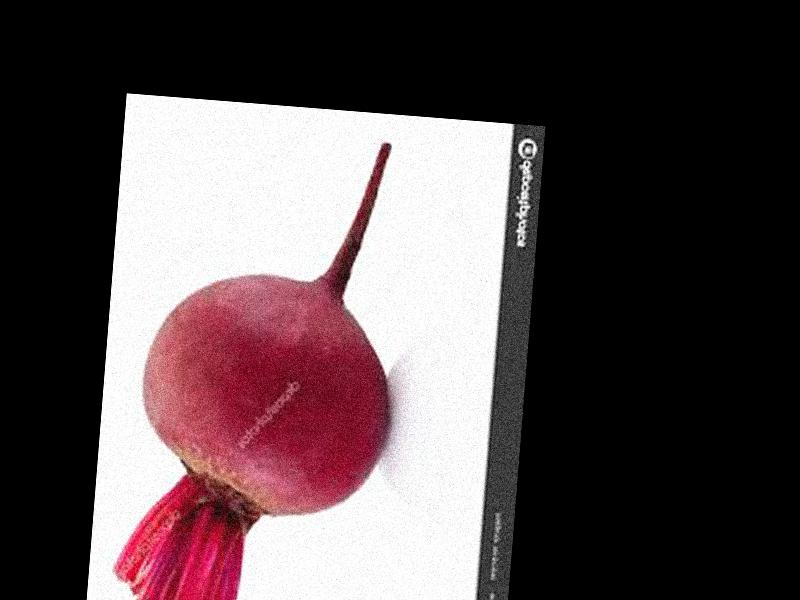Beet: (112, 124, 410, 600)
